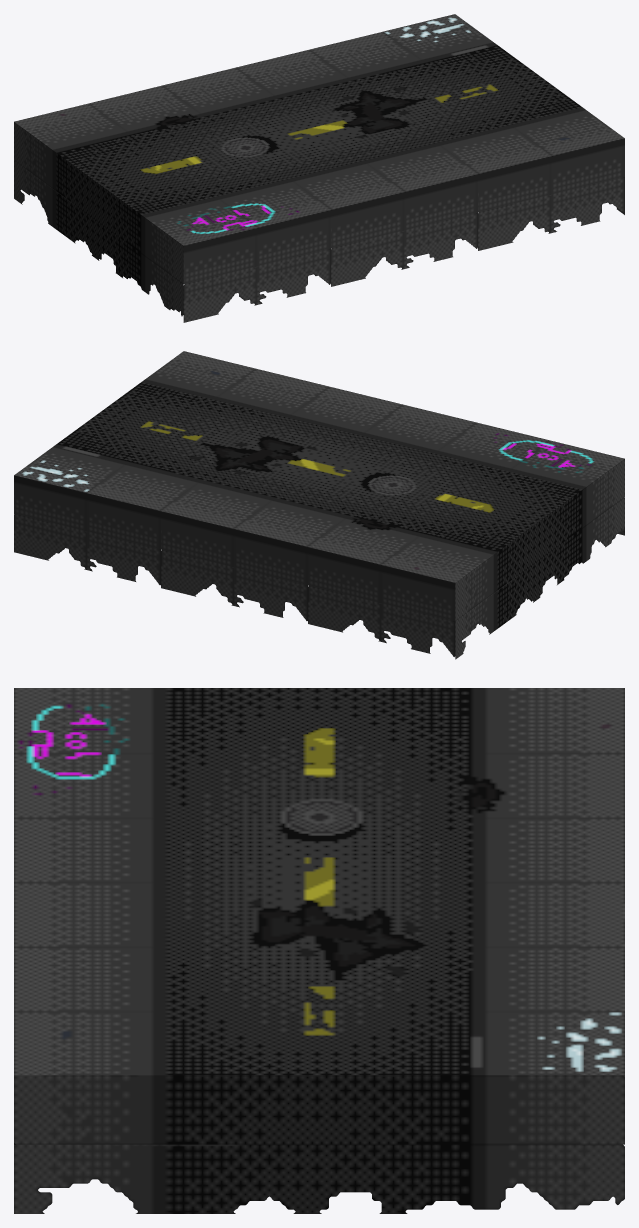
Rendered from Street.obj.
3 views of the same model, one above another, from view 1: azimuth 30°, elevation 25°; view 2: azimuth 150°, elevation 25°; view 3: azimuth 270°, elevation 25° (orthographic). The views are drawn at different scales.
Parts seen in each view (by area): view 1: Default; view 2: Default; view 3: Default.
Boxes of the visible parts, box(x1,y1,x2,y2) form: Default: box(14, 14, 624, 322); Default: box(14, 351, 624, 659); Default: box(14, 688, 624, 1213).
Size of the model in its own units: 12 by 2 by 8.
Materials: 1 (1 with a texture image).
